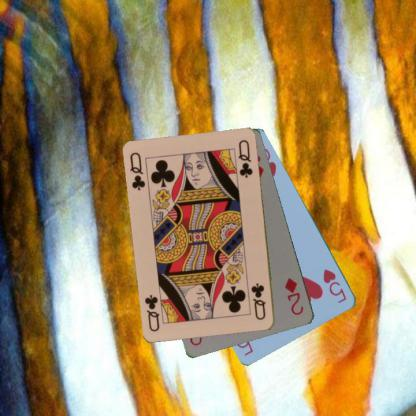2d: (282, 275, 305, 317)
5h: (321, 266, 348, 304)
Qc: (127, 150, 147, 192), (249, 281, 268, 321)
